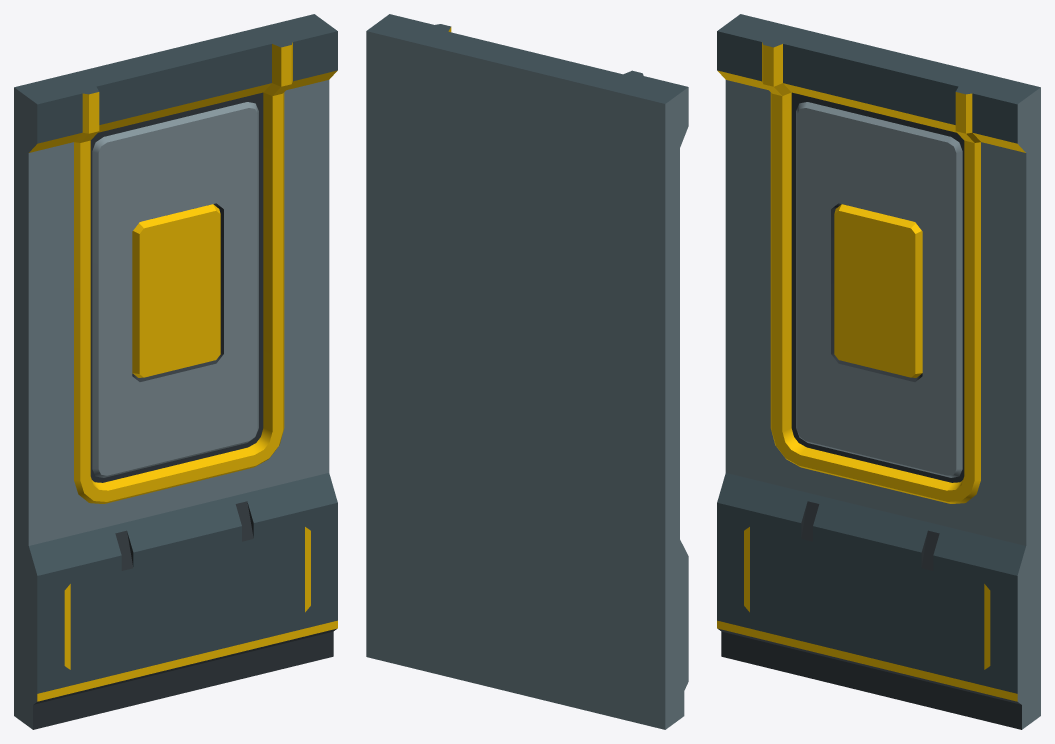
Rendered from Wall_type_C_021.fbx.
3 renders of one model, left to right at view 1: azimuth 30°, elevation 25°; view 2: azimuth 150°, elevation 25°; view 3: azimuth 330°, elevation 25°, orthographic.
Visible parts, largest first — view 1: Wall_type_C_021; view 2: Wall_type_C_021; view 3: Wall_type_C_021.
Boxes of the visible parts, x1=… form: Wall_type_C_021: x1=14, y1=14, x2=337, y2=729; Wall_type_C_021: x1=366, y1=14, x2=688, y2=729; Wall_type_C_021: x1=717, y1=14, x2=1040, y2=729.
Size of the model in its own units: 200 by 29.98 by 400.
